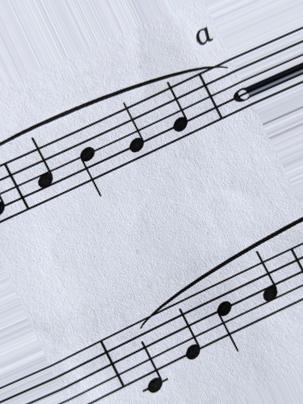A: (26, 135, 60, 200), (249, 252, 281, 318)
B: (213, 281, 247, 357), (78, 126, 109, 202)
E: (171, 302, 204, 368)
G: (160, 78, 193, 145), (118, 99, 147, 163)
LC: (132, 318, 174, 399)
